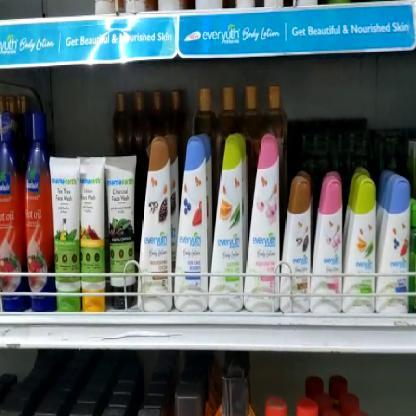Everyuth Naturals Body Lotion Nourishing Cocoa 200ml: (136, 134, 172, 310)
Everyuth Naturals Body Lotion Rejuvenating Flora 200ml: (247, 135, 278, 311)
Everyuth Naturals Body Lotion Soothing Citrus 200ml: (211, 134, 246, 310)
Everyuth Naturals Body Lotion Sun Care Berries SPF 15 200ml: (174, 136, 208, 311)
